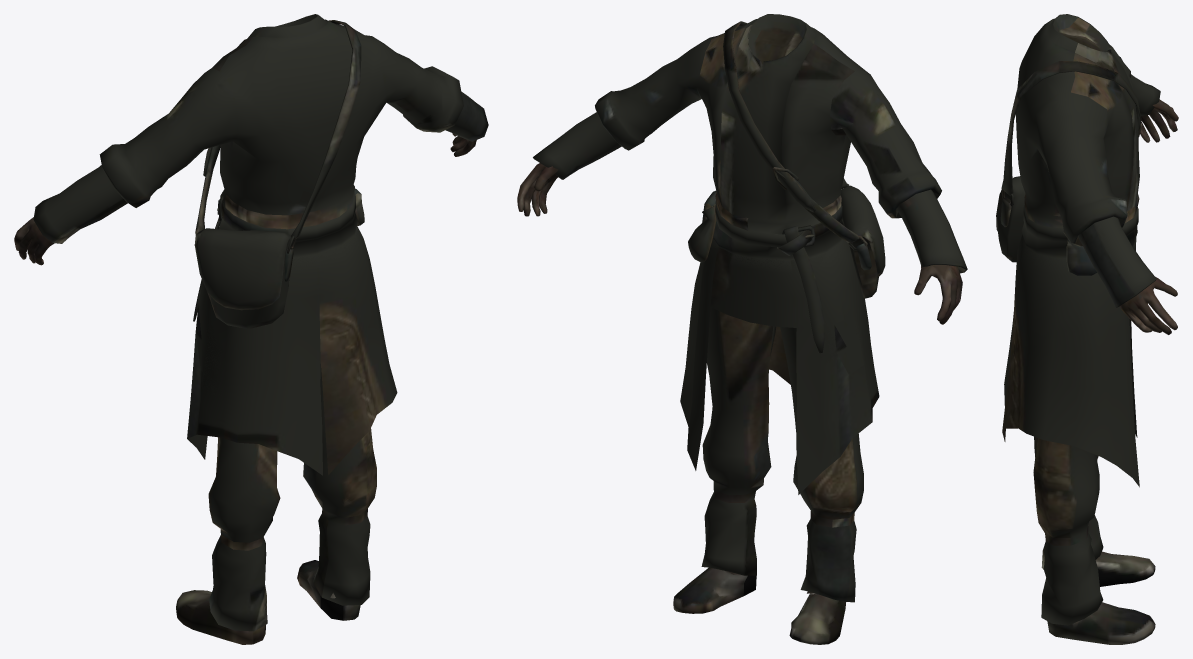
The picture shows the model from 3 angles, left to right: view 1: azimuth 30°, elevation 25°; view 2: azimuth 150°, elevation 25°; view 3: azimuth 270°, elevation 25°; orthographic projection. The views are drawn at different scales.
Visible parts, largest first — view 1: mesh_0; view 2: mesh_0; view 3: mesh_0.
Part boxes in pixels (bbox=[...]): mesh_0: bbox=[14, 14, 488, 644]; mesh_0: bbox=[517, 14, 967, 644]; mesh_0: bbox=[996, 14, 1178, 644].
Size of the model in its own units: 49.79 by 63.88 by 18.08.
Materials: 1 (1 with a texture image).
